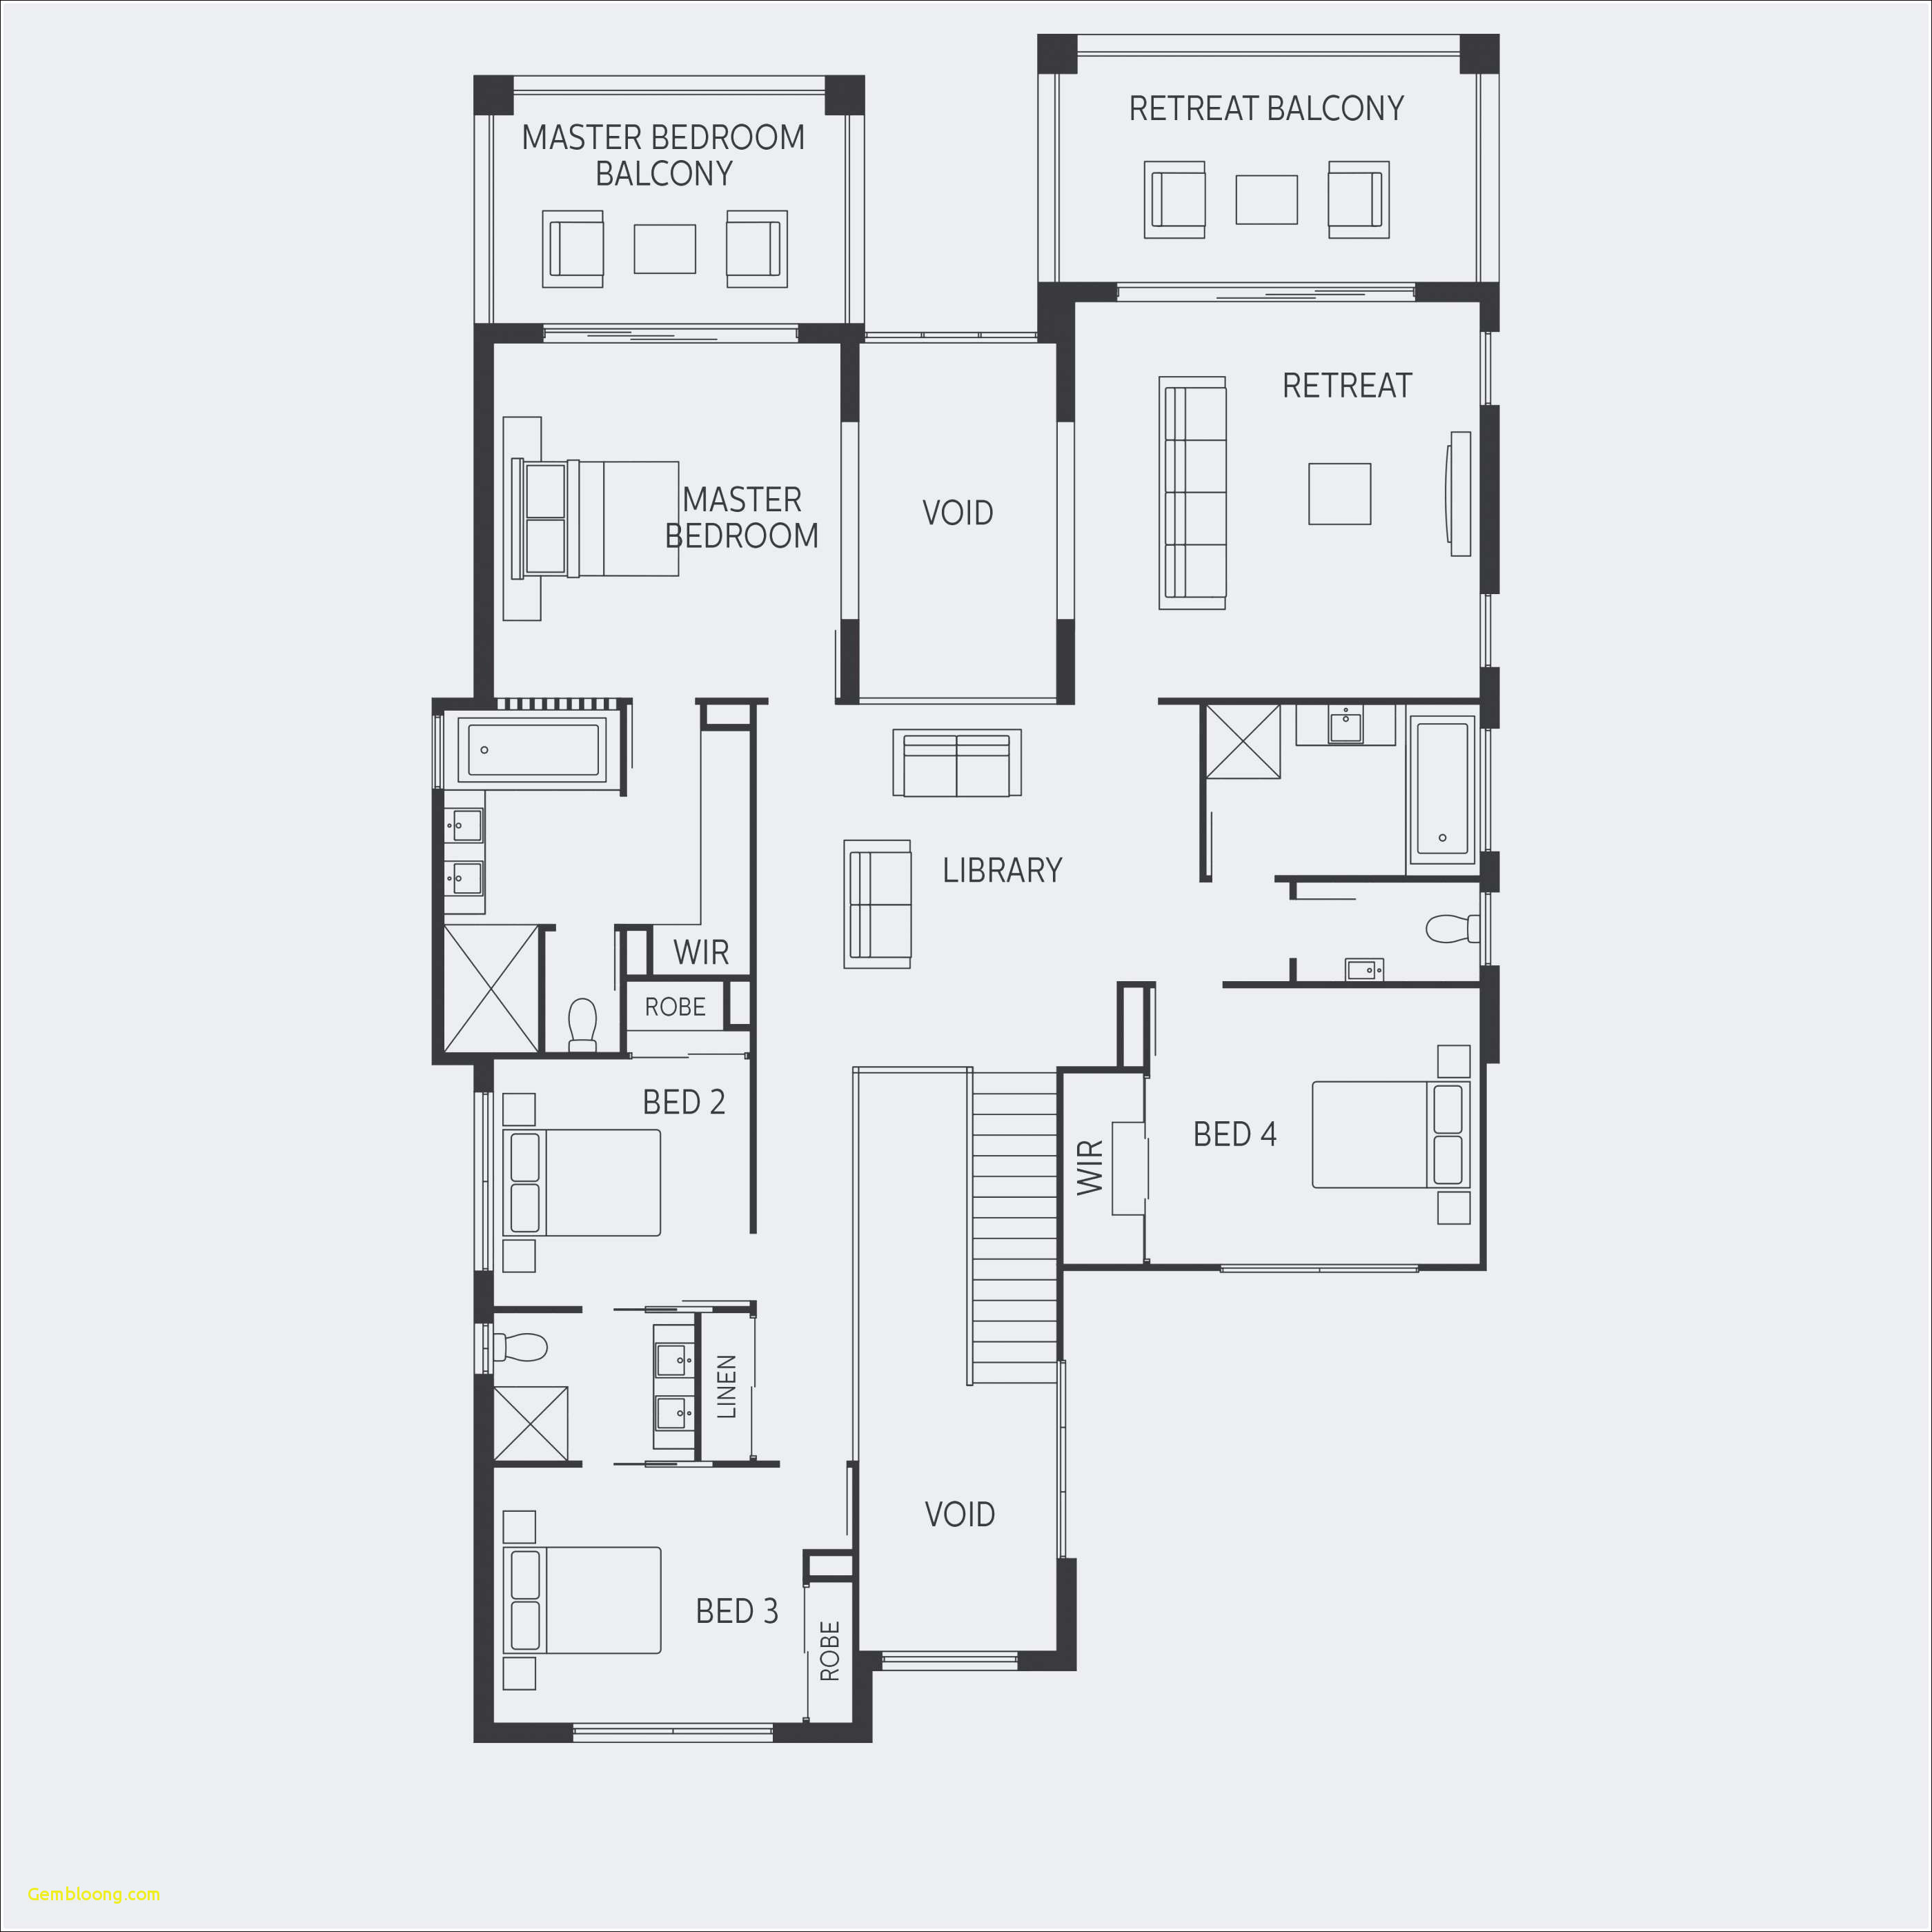room: (1058, 288, 1504, 708), (469, 326, 860, 713), (763, 711, 1150, 1076), (1042, 39, 1499, 303), (433, 699, 763, 1056), (1063, 985, 1481, 1263), (469, 78, 865, 345), (1154, 699, 1499, 987), (476, 1470, 847, 1736), (495, 1056, 761, 1300)
